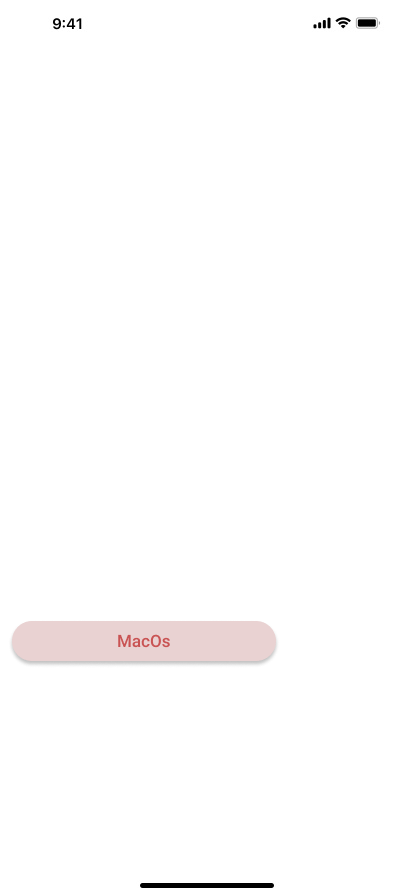Buttons: (8, 620, 284, 668)
Home Indicator: (0, 862, 414, 896)
Status Bar: (0, 0, 414, 44)
